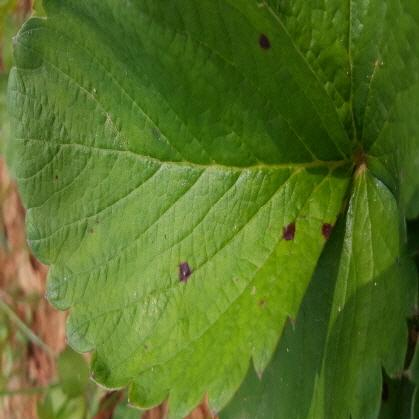Leaf Spot: (8, 0, 356, 418)
